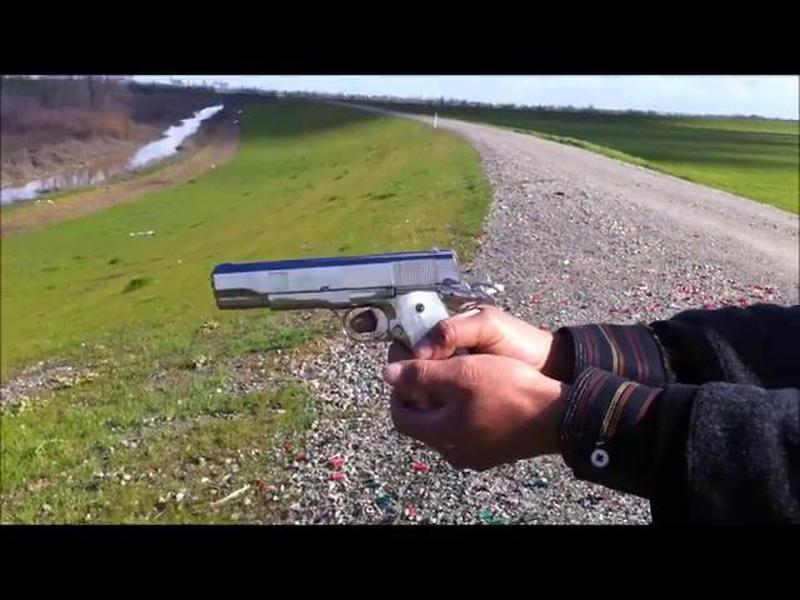Pistola: (172, 231, 494, 427)
